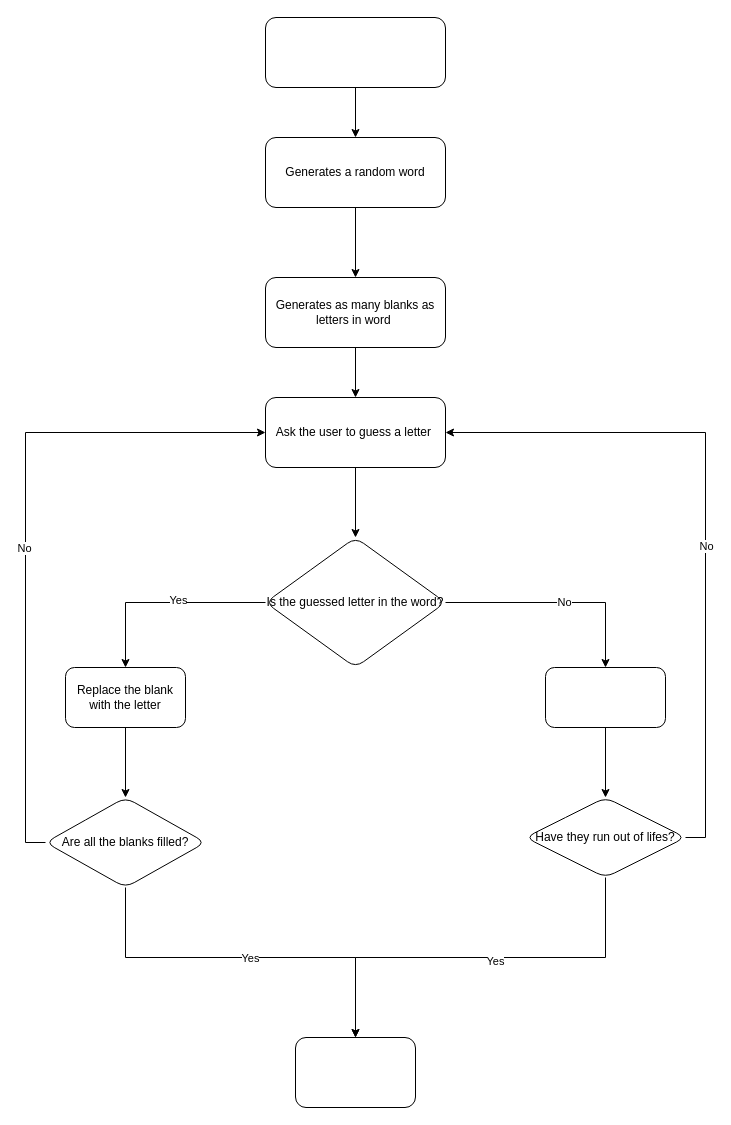
Image size: 731x1125. Some labels were removed from this diagram. The shapes that lost their labels are listed below. From the top down, each one's centre as x and y in pixels, then its label:
At point (355, 52): "Start".
At point (605, 697): "Lose a life".
At point (355, 1072): "GAME OVER".
